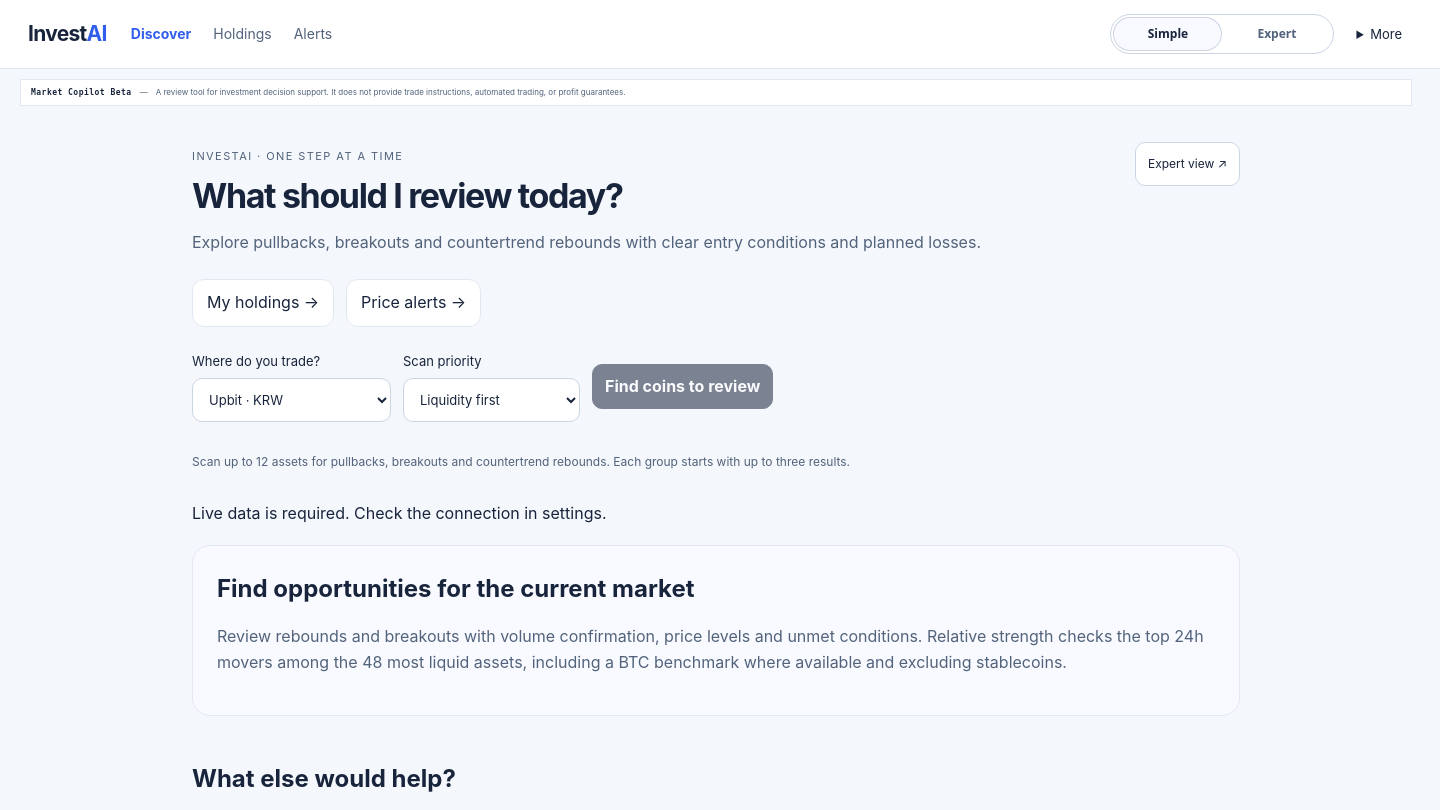
Test: Market Copilot application shell › keeps three simple navigation links and opens other functions through More
Expected: the heading "What should I review today?" is shown, [192, 175, 623, 216]
Press k
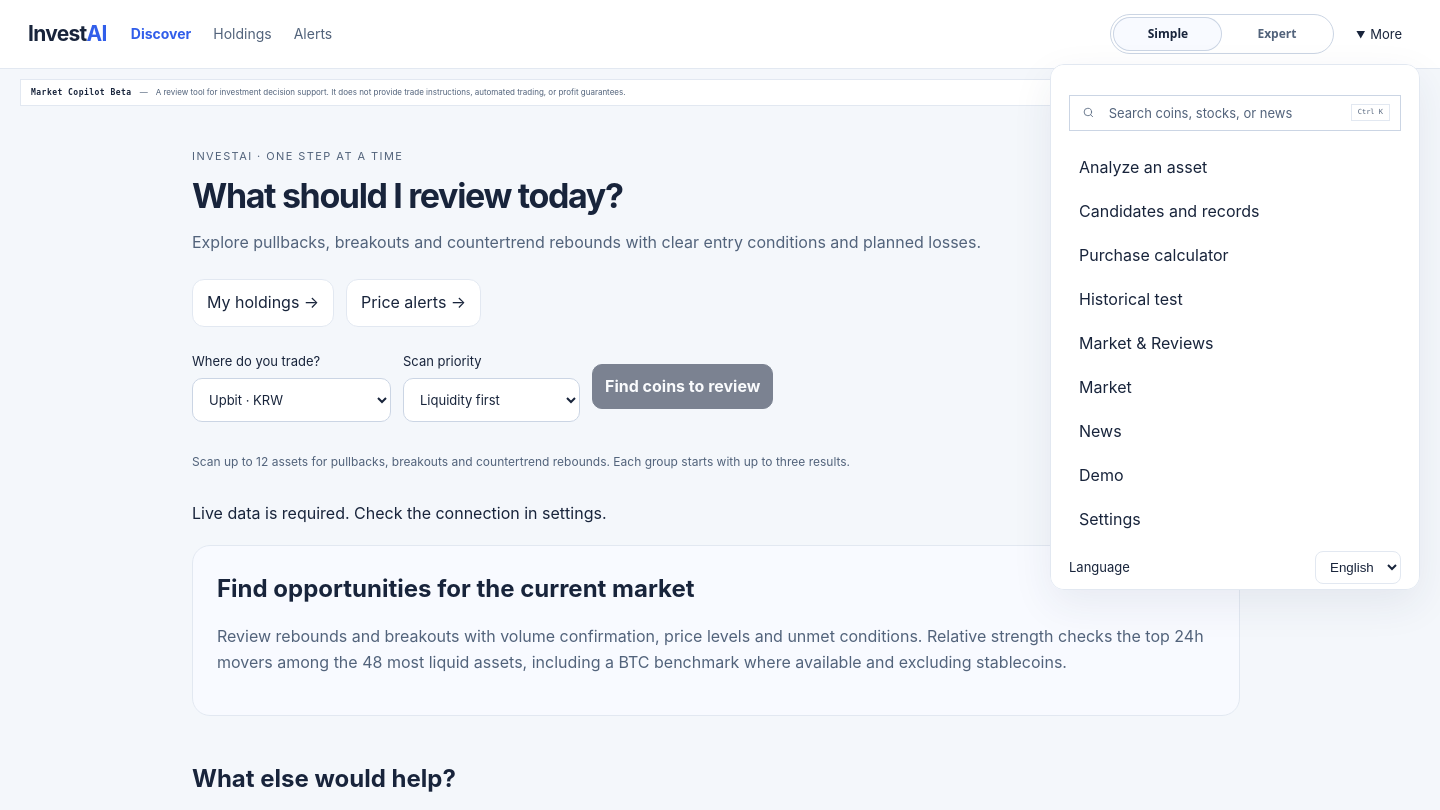
Press Escape in the search field named "Global search", box [1107, 104, 1339, 122]
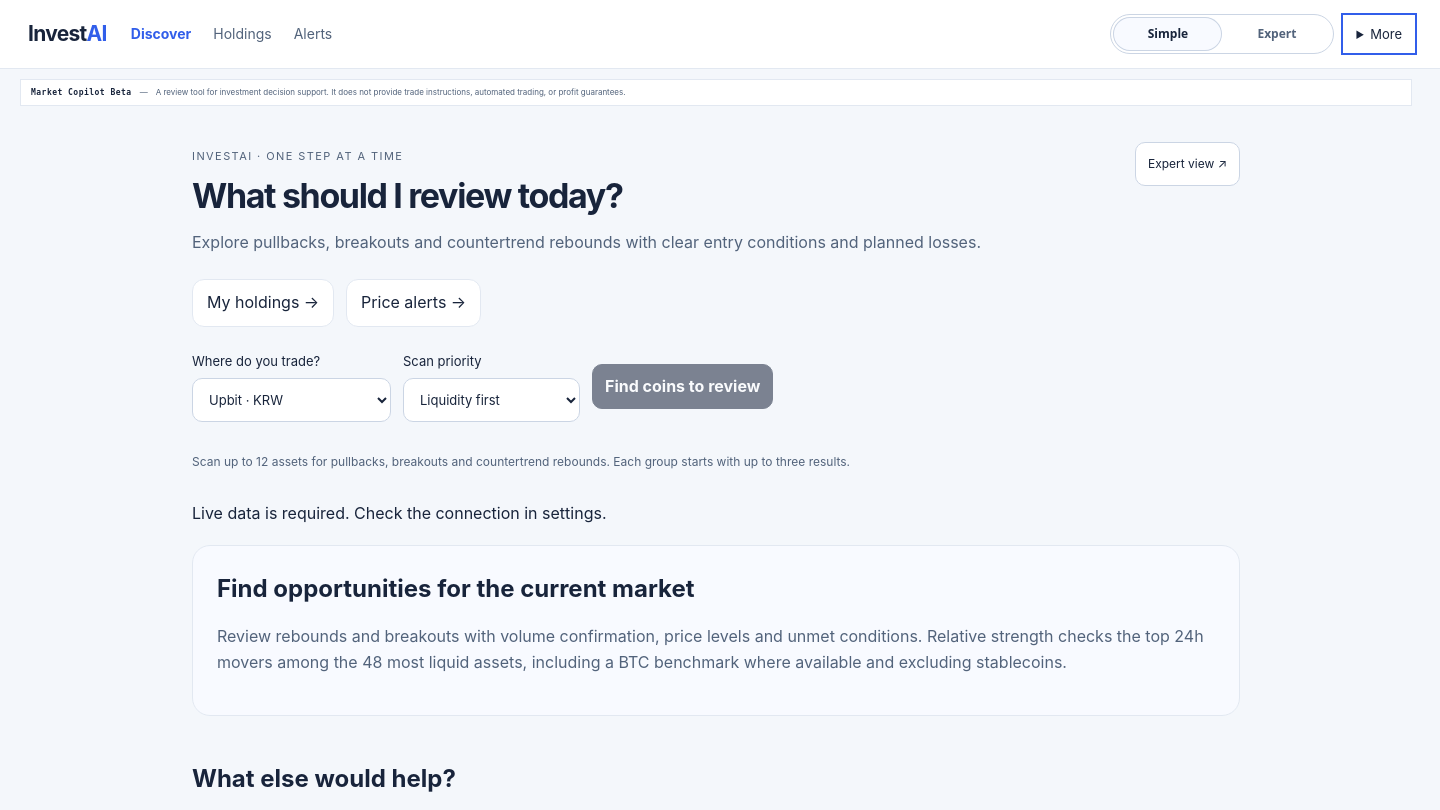
Click the heading "More": [1386, 34] box [1370, 26, 1402, 42]
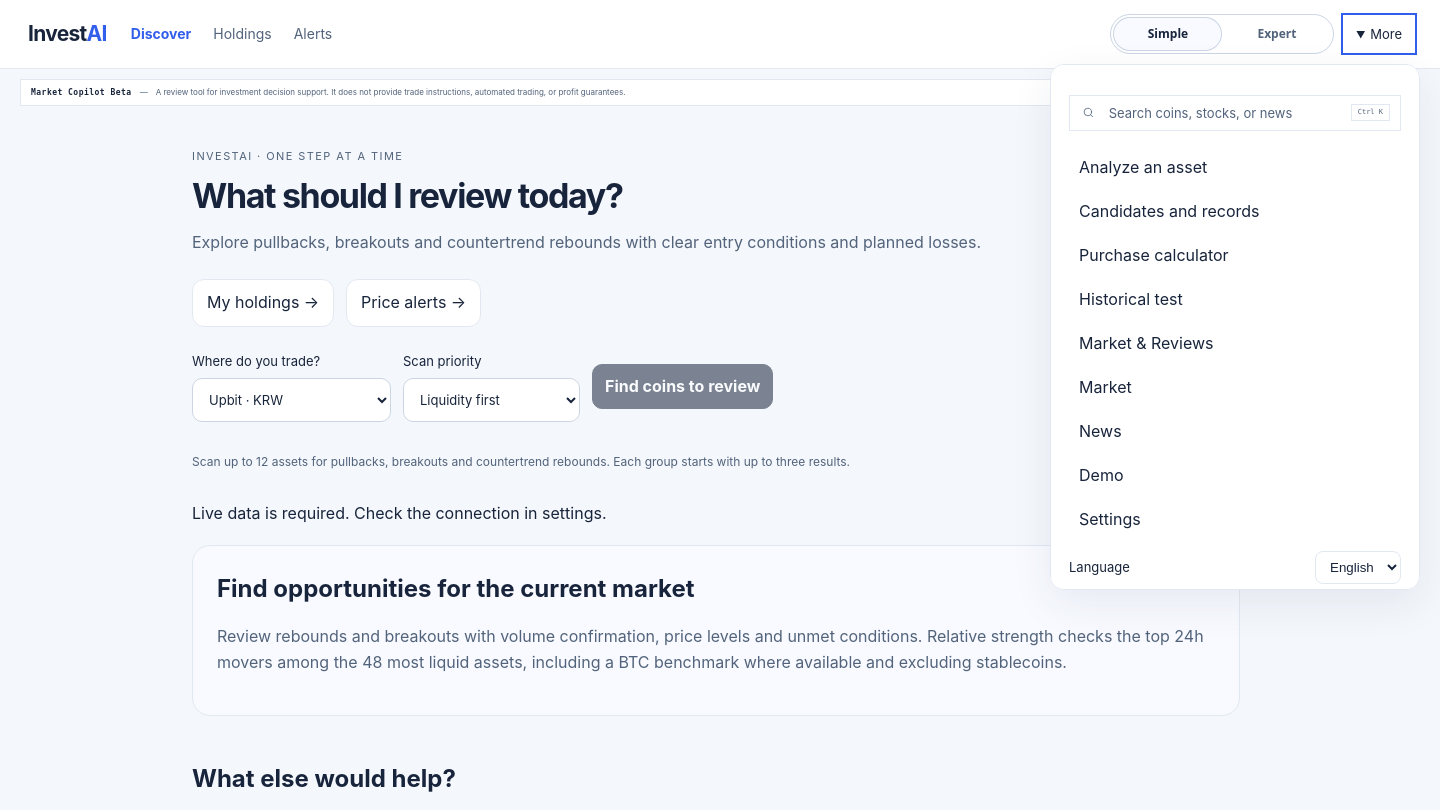
Click the link "Settings": [1110, 519] box [1079, 509, 1141, 529]
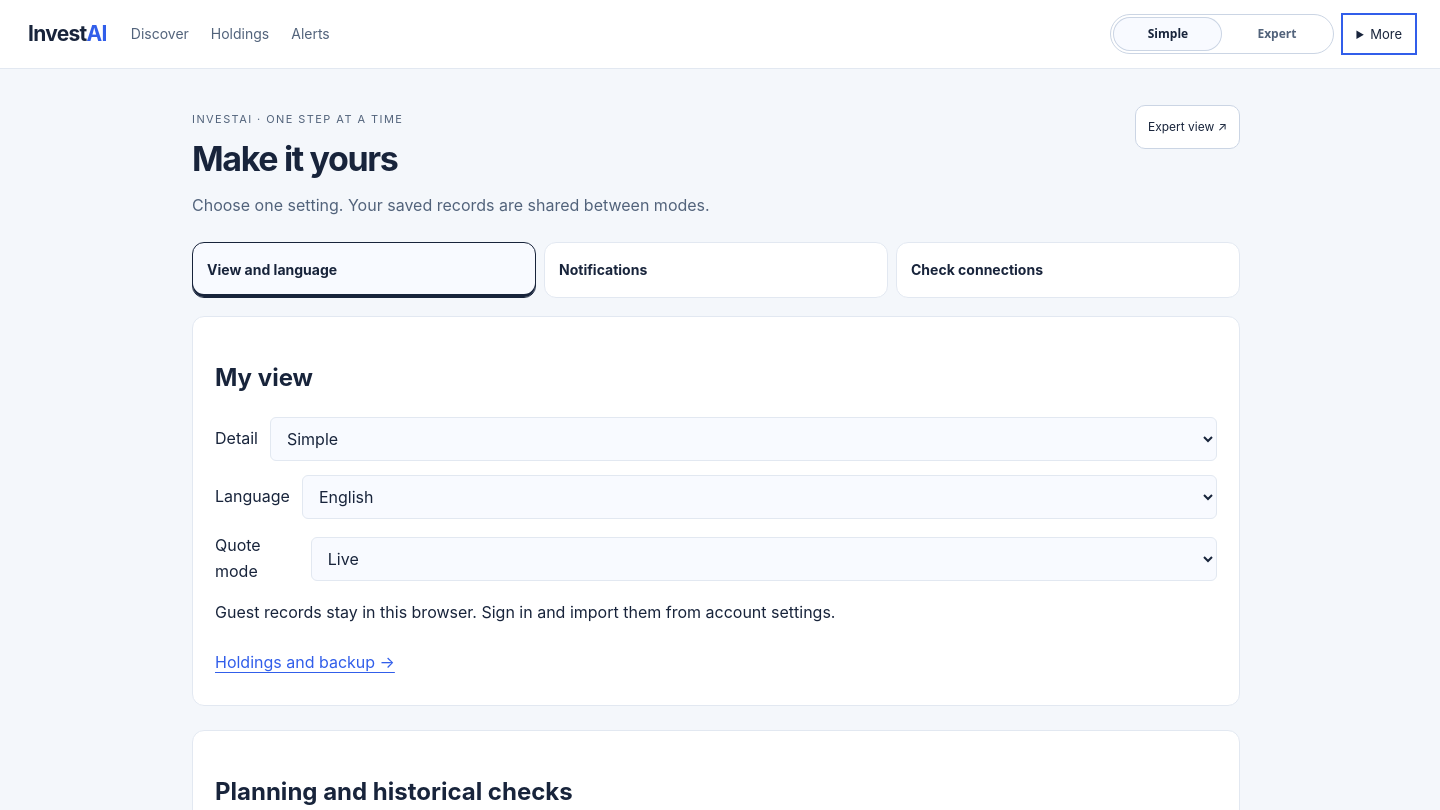
Expected: the heading "Make it yours" is shown, [192, 138, 398, 179]
